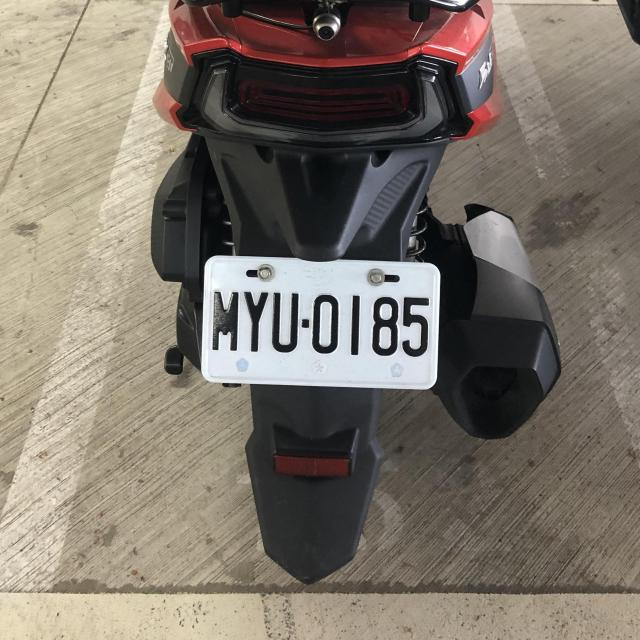W: (200, 252, 442, 390)
